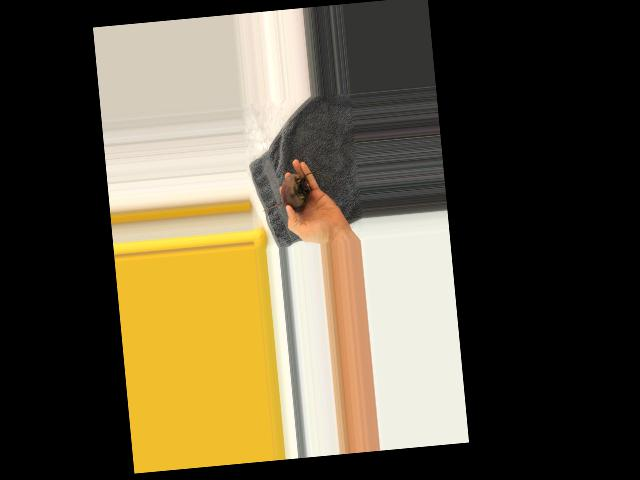beet: (260, 173, 313, 215)
